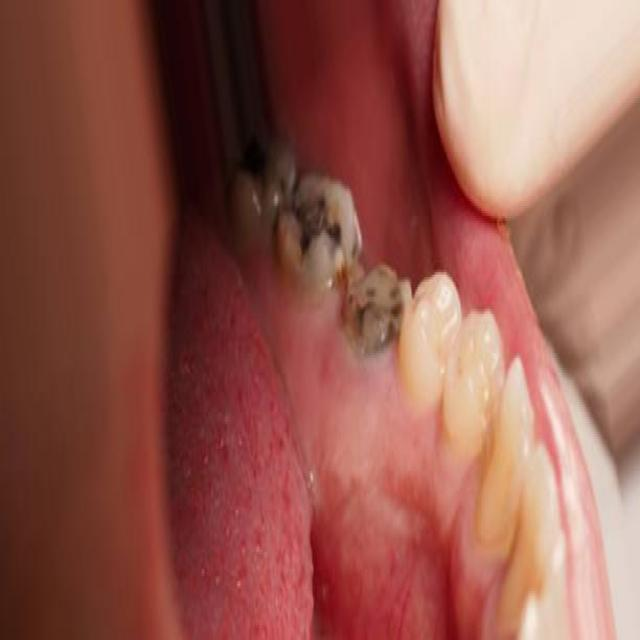caries: (280, 156, 357, 282), (342, 250, 408, 369), (235, 130, 285, 228)
